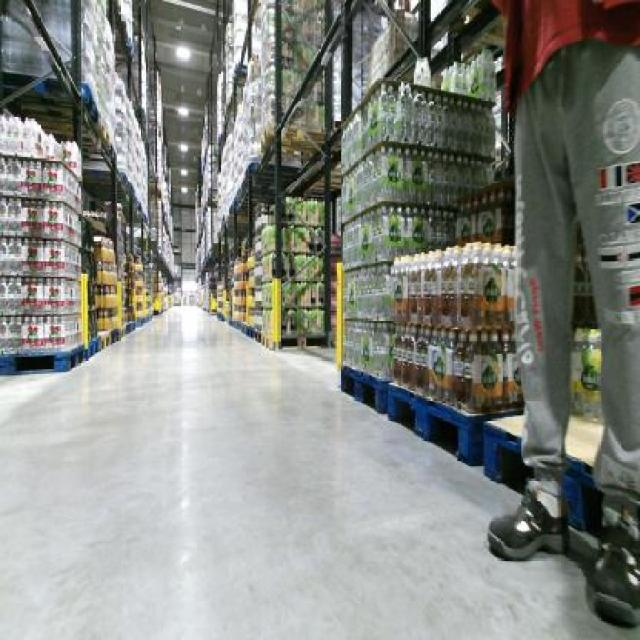pallet: (488, 425, 640, 508), (0, 328, 106, 382), (400, 387, 472, 459), (338, 363, 391, 410)
